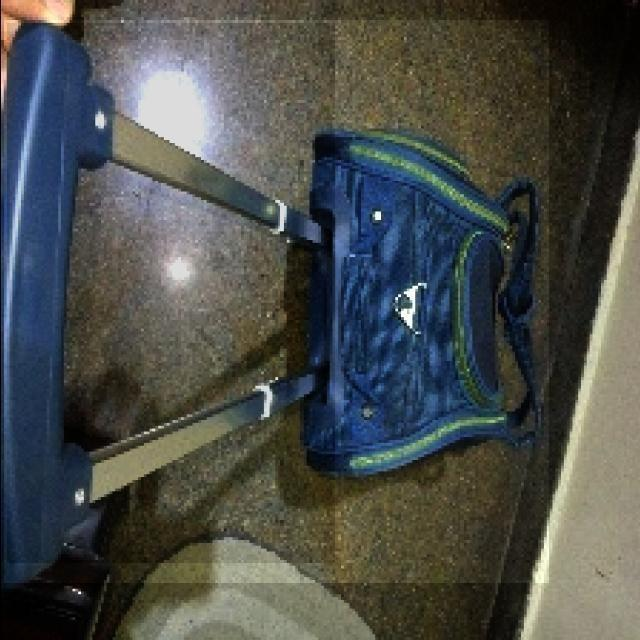Suitcase: (0, 1, 546, 597)
